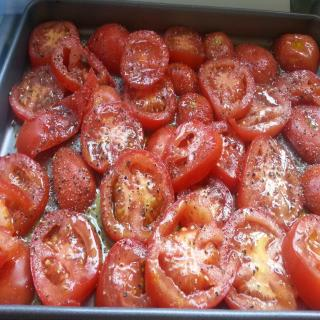Tomato: (0, 21, 320, 308), (285, 217, 320, 305)
